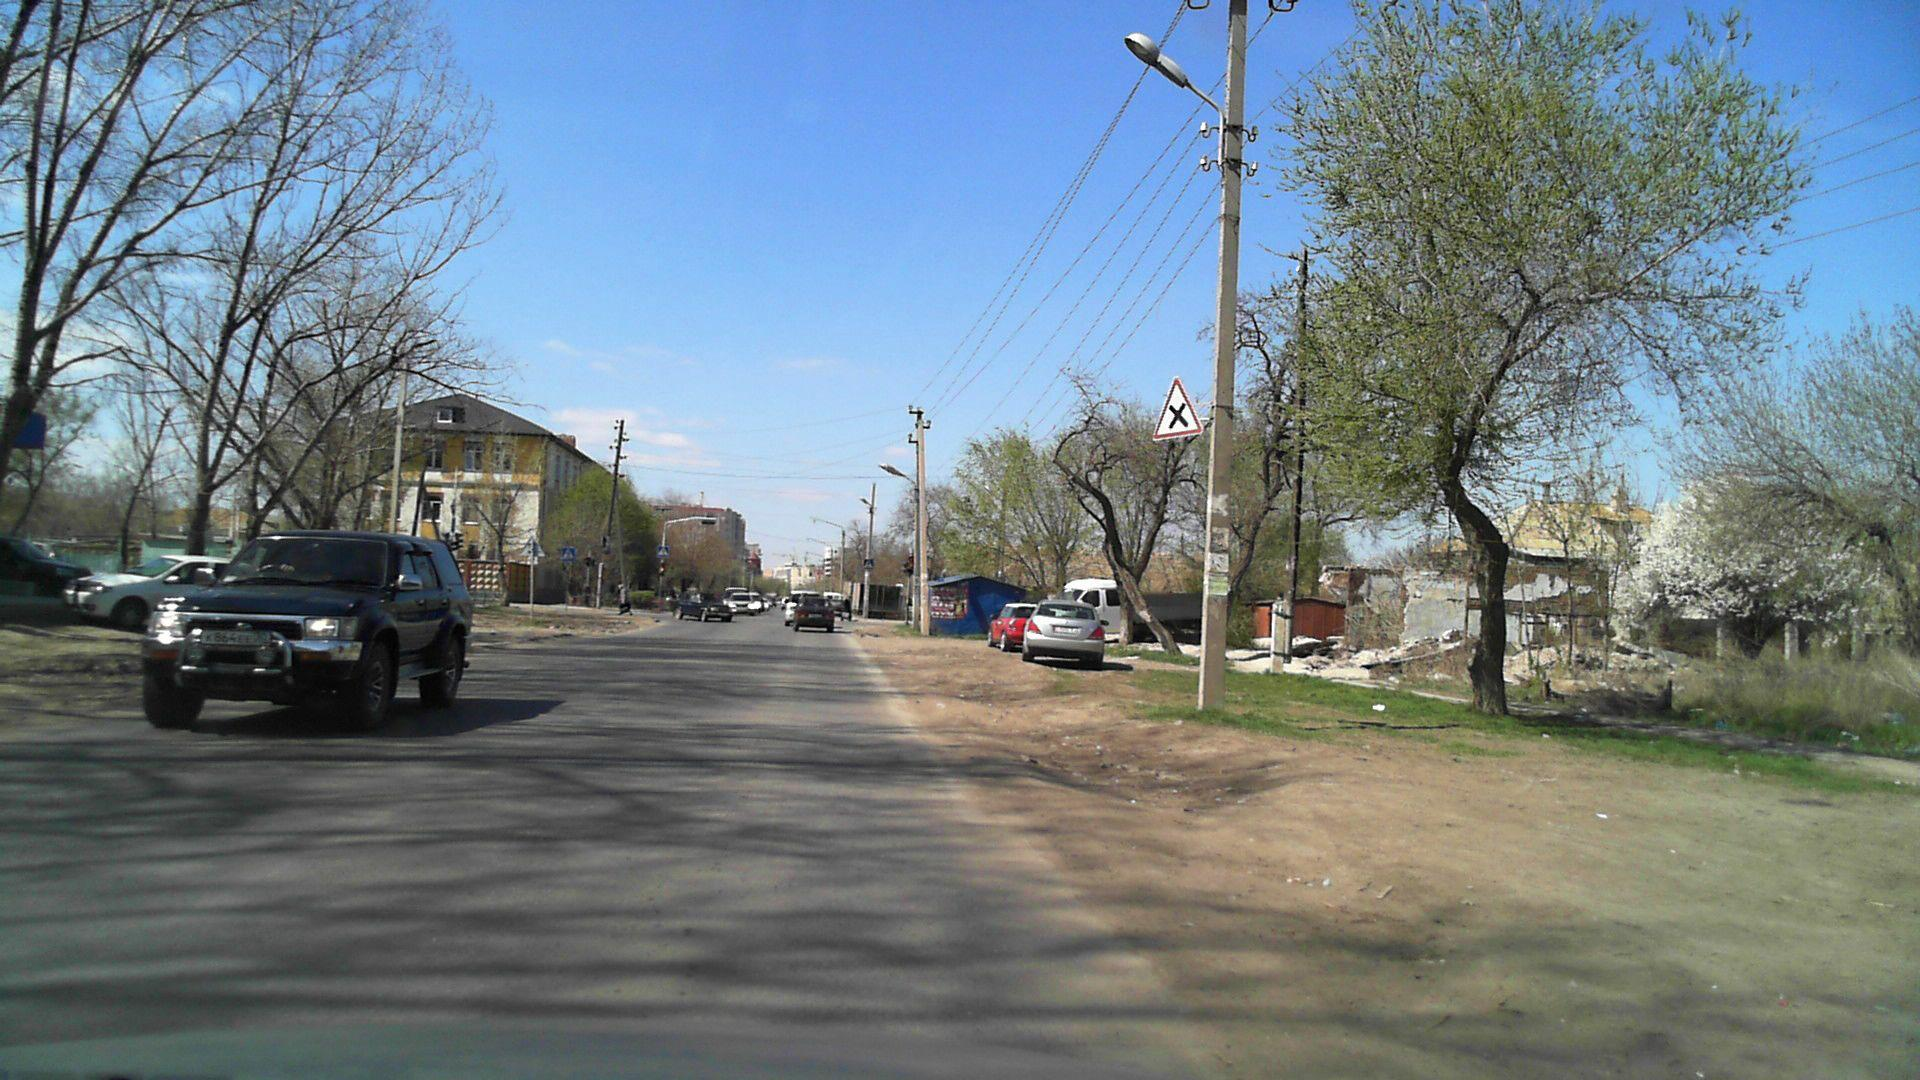1_6: (1153, 375, 1204, 440)
5_19_1: (560, 546, 576, 562), (865, 558, 874, 571)
5_19_2: (657, 546, 673, 562)
